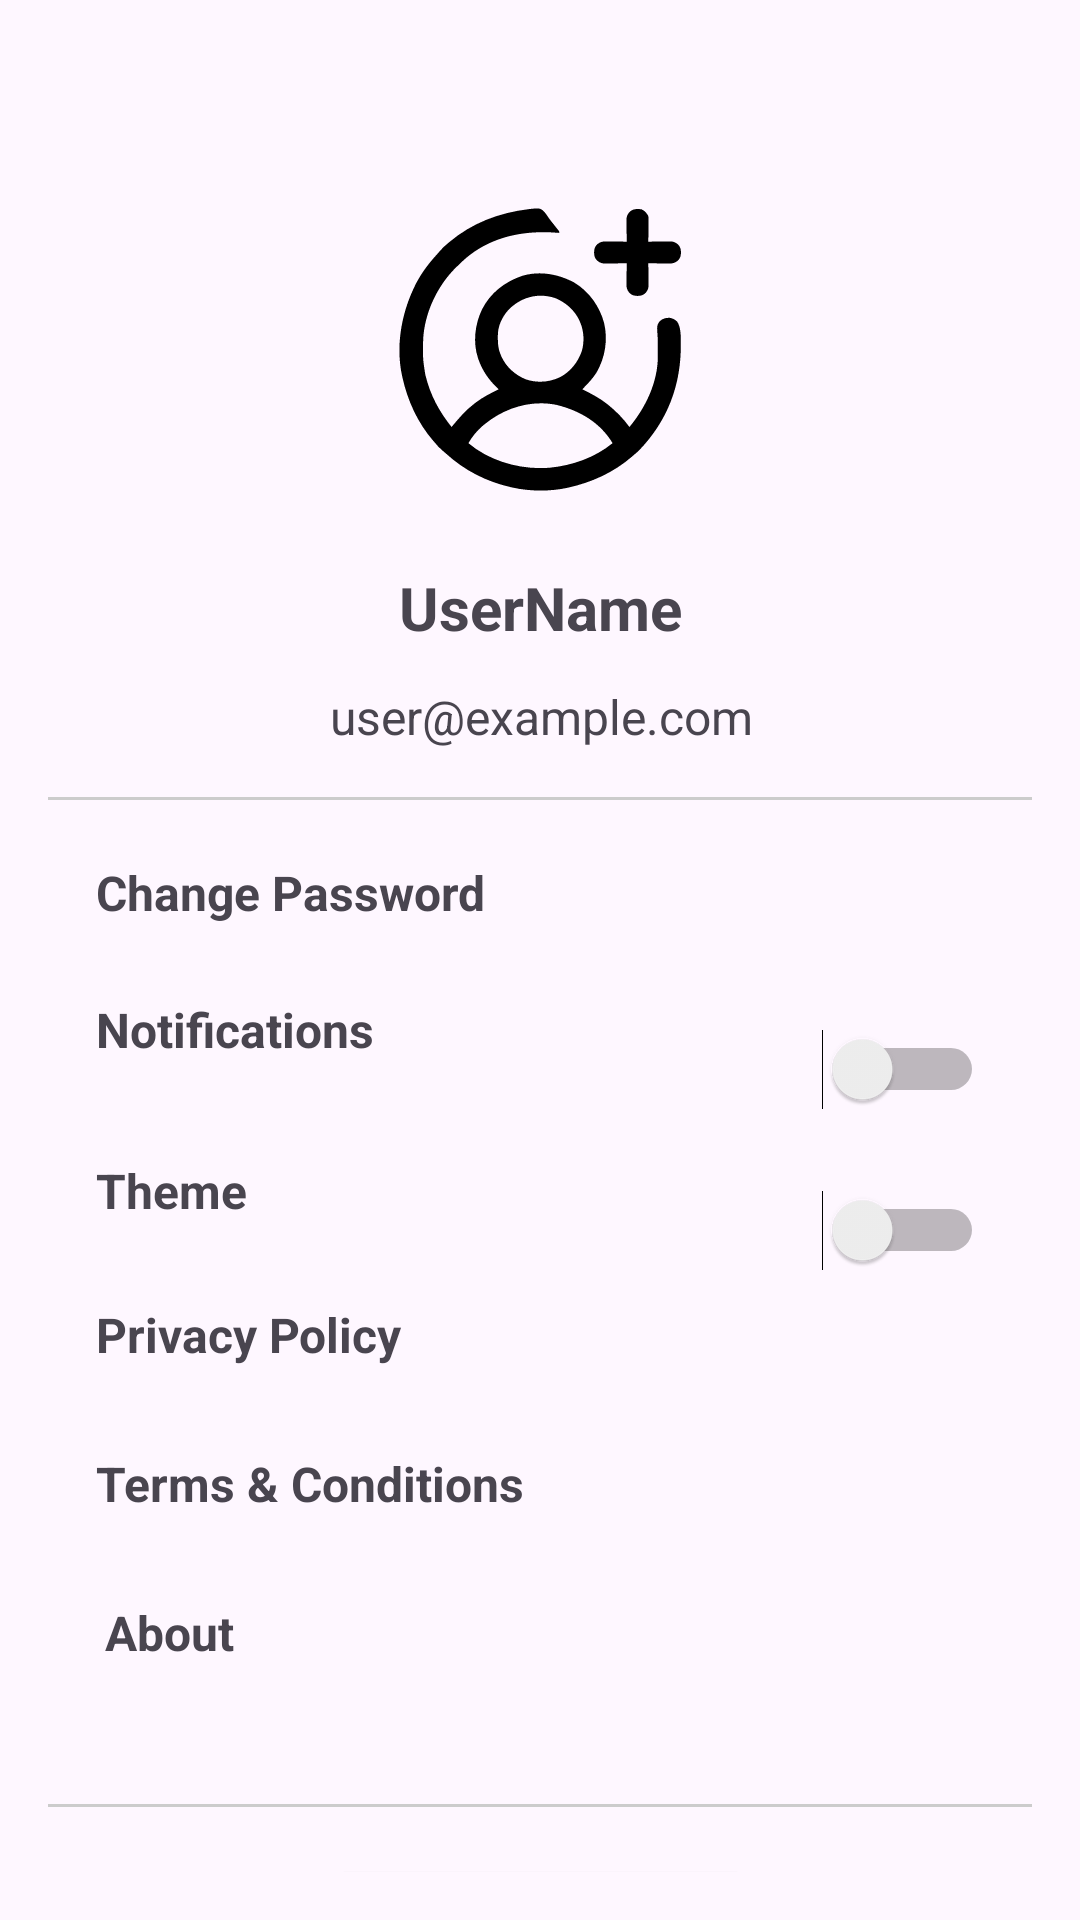

Screen size 1080 × 1920. Icon name, then its box in pixels as (x1=x1, y1=y1, x2=x2, y2=y2):
Profile Image: (x1=399, y1=208, x2=681, y2=491)
